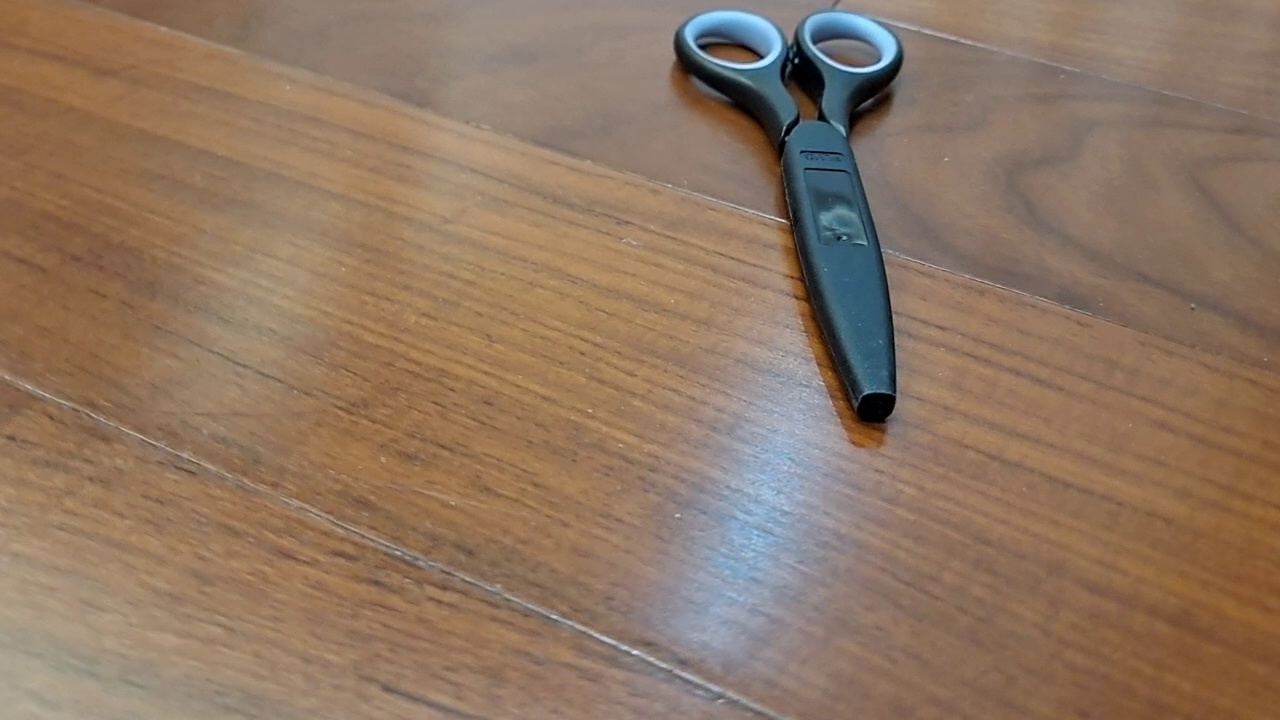scissors: (673, 8, 905, 423)
